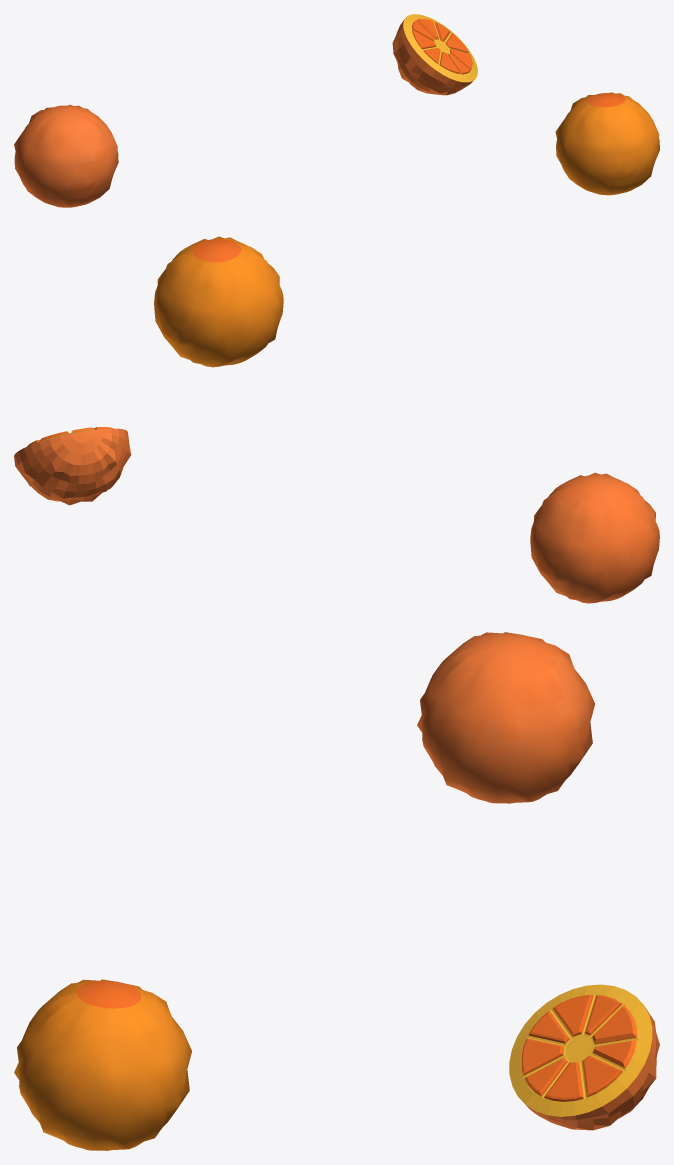
The model's file is Oranges.fbx.
3 renders of one model, top to bottom at view 1: azimuth 30°, elevation 25°; view 2: azimuth 150°, elevation 25°; view 3: azimuth 270°, elevation 25°, orthographic. The views are drawn at different scales.
Visible parts, largest first — view 1: Orange.001, Orange, Cut open.002, Cut open.008, Cut open.005, Cut open.007, Cut open.006, Orange.002; view 2: Orange.001, Orange, Cut open.002, Orange.002; view 3: Orange.001, Orange, Cut open.008, Cut open.005, Cut open.007, Cut open.002, Cut open.006, Orange.002.
Part boxes in pixels (x1,y1,x2,y2): Orange.001: [14, 104, 118, 207]; Orange: [555, 92, 659, 195]; Cut open.002: [392, 19, 473, 95]; Cut open.008: [403, 14, 477, 82]; Cut open.005: [412, 30, 460, 73]; Cut open.007: [445, 33, 472, 74]; Cut open.006: [412, 19, 450, 41]; Orange.002: [586, 93, 625, 107]; Orange.001: [530, 472, 659, 603]; Orange: [154, 236, 283, 367]; Cut open.002: [14, 428, 131, 505]; Orange.002: [192, 239, 241, 262]; Orange.001: [417, 632, 594, 803]; Orange: [14, 979, 191, 1150]; Cut open.008: [509, 984, 652, 1116]; Cut open.005: [521, 995, 593, 1075]; Cut open.007: [524, 1055, 622, 1101]; Cut open.002: [522, 1007, 659, 1130]; Cut open.006: [585, 995, 636, 1068]; Orange.002: [76, 980, 141, 1008].
Bounding box in the file's own units: 816 × 144 × 534.
Materials: 1 (1 with a texture image).
